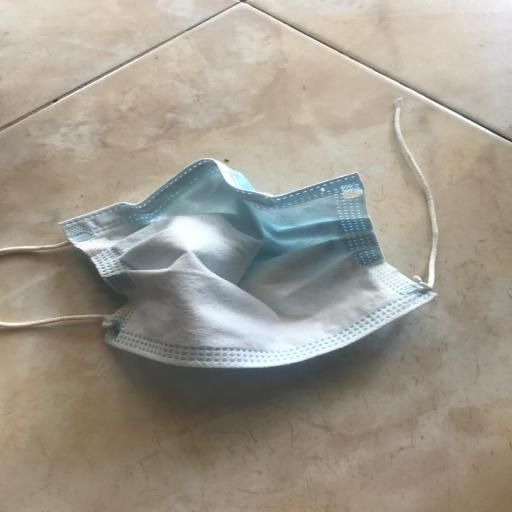waste: (0, 82, 457, 383)
